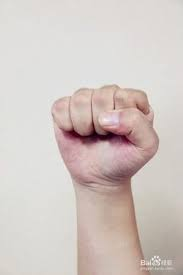fist: (48, 81, 164, 193)
